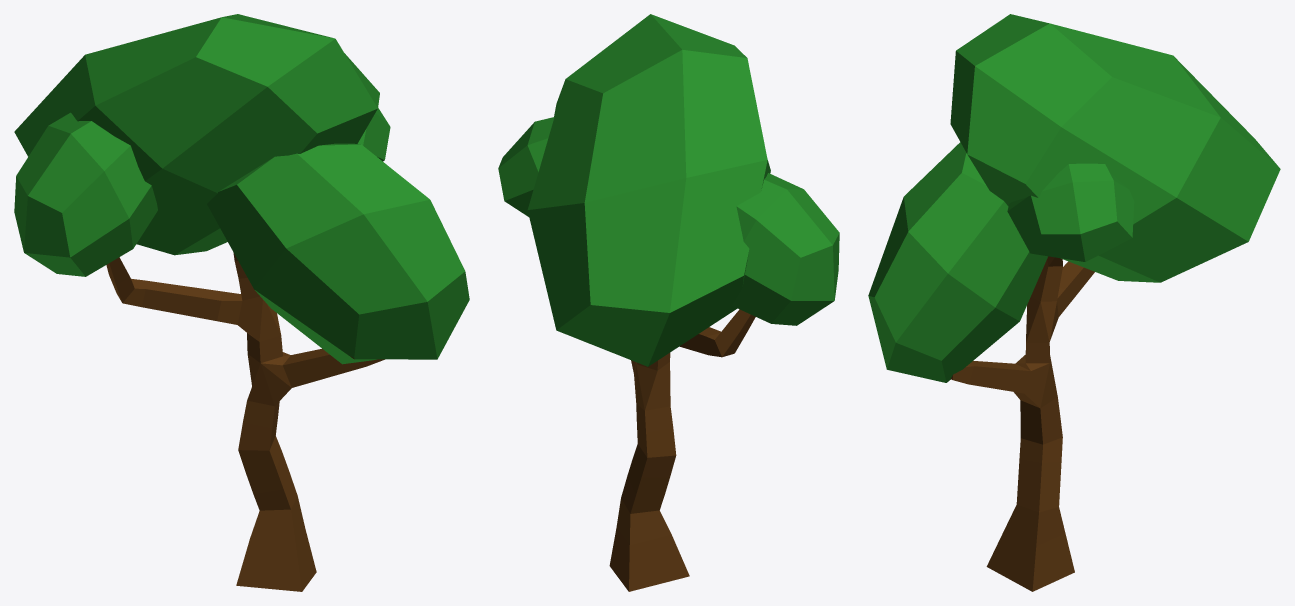
Rendered from ArbolGrande.fbx.
The picture shows the model from 3 angles, left to right: view 1: azimuth 30°, elevation 25°; view 2: azimuth 150°, elevation 25°; view 3: azimuth 270°, elevation 25°; orthographic projection. The views are drawn at different scales.
Parts seen in each view (by area): view 1: ArbolBosque; view 2: ArbolBosque; view 3: ArbolBosque.
Boxes of the visible parts, x1=… form: ArbolBosque: x1=14, y1=14, x2=469, y2=591; ArbolBosque: x1=498, y1=14, x2=839, y2=591; ArbolBosque: x1=868, y1=14, x2=1280, y2=591.
Size of the model in its own units: 622 by 964 by 680.
